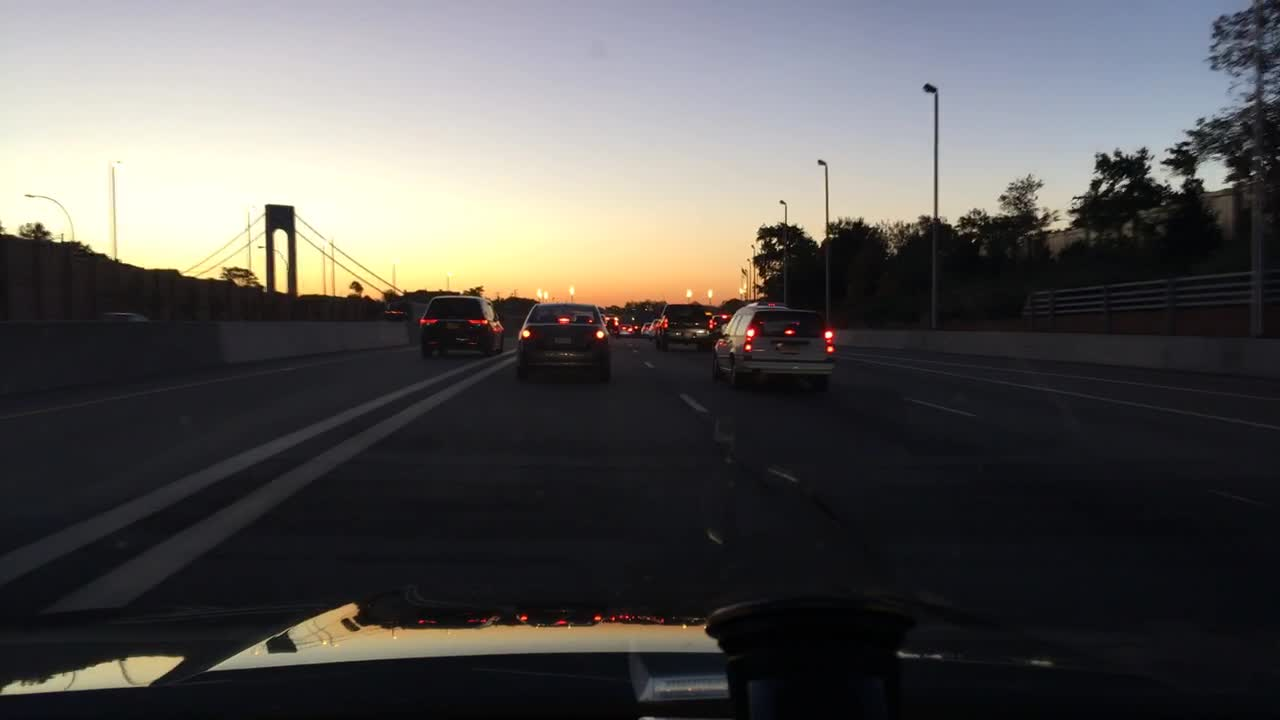car: (709, 299, 836, 393), (512, 300, 612, 383), (417, 291, 505, 360), (653, 302, 713, 352), (95, 309, 144, 325), (704, 312, 730, 333), (604, 314, 621, 335), (646, 316, 660, 339), (614, 321, 632, 336), (638, 320, 650, 339), (629, 322, 641, 335)
